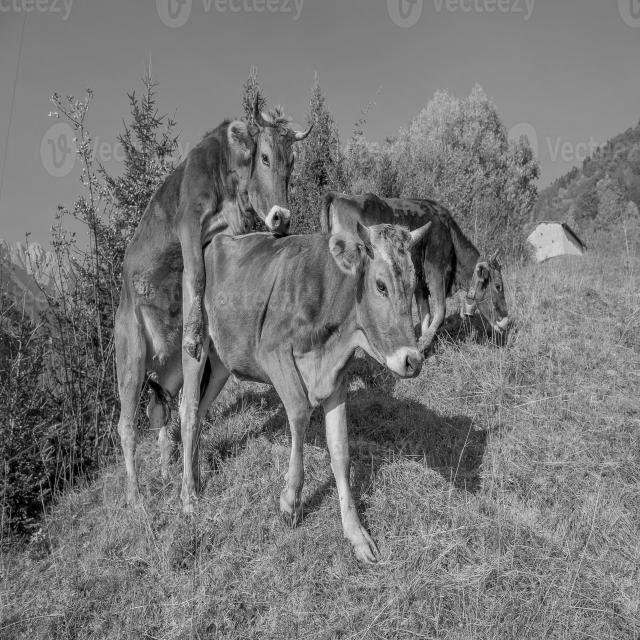cow: (199, 224, 426, 561), (115, 111, 304, 511), (320, 192, 508, 354)
